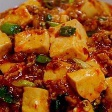mapodoufu: (1, 1, 112, 112)
